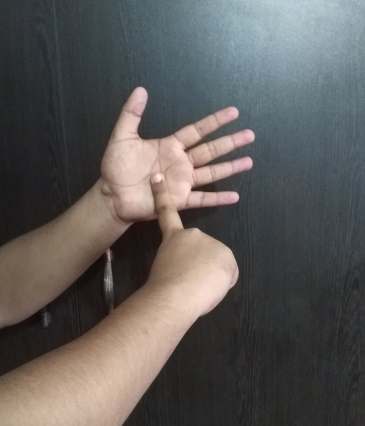oo: (105, 85, 257, 308)
